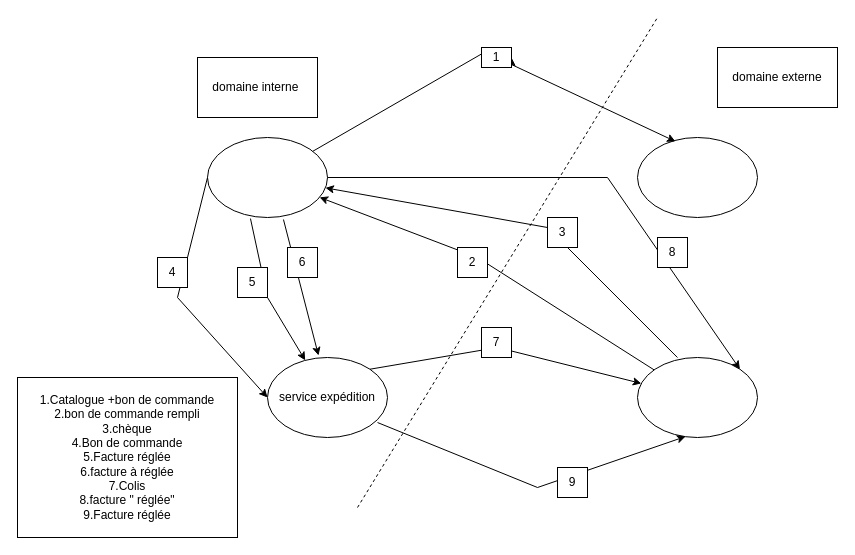
Some shapes in this 855 by 555 pixel diagram are drawn without their labels. Each missing label, with the centre of its shape:
Etablissement: point (697, 177)
professeur: point (697, 397)
Secrétariat: point (267, 177)
